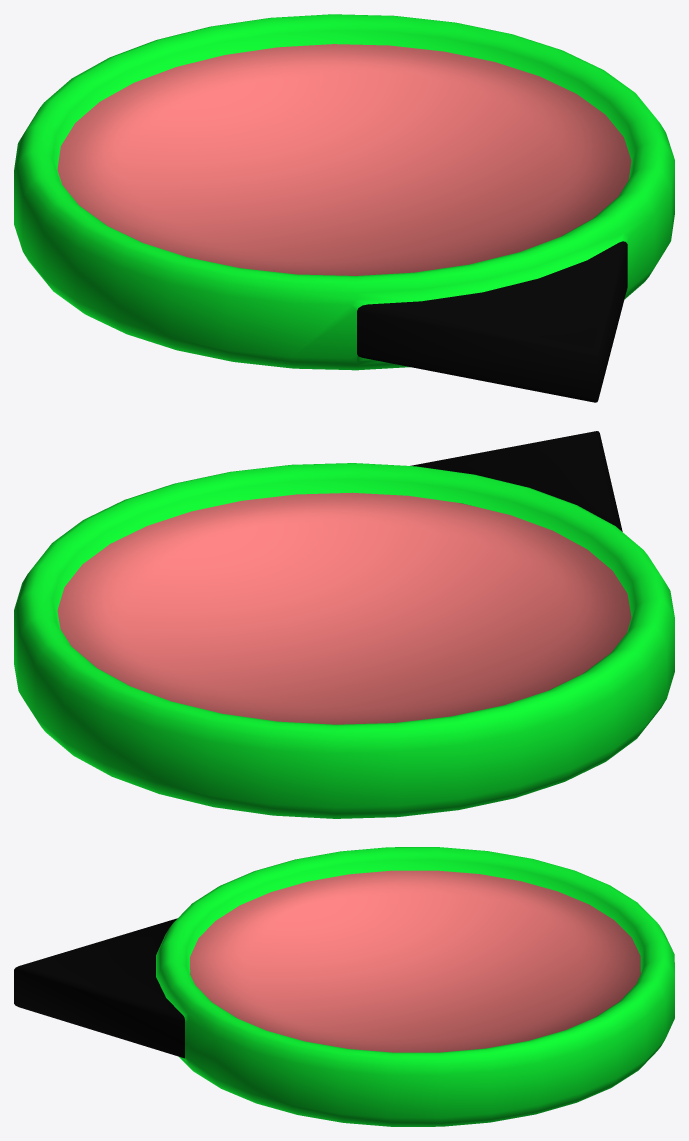
Rendered from Crimes.fbx.
3 renders of one model, top to bottom at view 1: azimuth 30°, elevation 25°; view 2: azimuth 150°, elevation 25°; view 3: azimuth 270°, elevation 25°, orthographic. The views are drawn at different scales.
Visible parts, largest first — view 1: Crimes; view 2: Crimes; view 3: Crimes.
Part boxes in pixels (x1,y1,x2,y2): Crimes: (14,14,674,402); Crimes: (14,431,674,818); Crimes: (14,847,674,1126).
Bounding box in the file's own units: 315 × 401 × 48.53.
3 materials, 1 textured.
